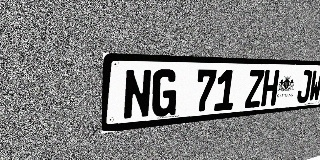1: (214, 70, 236, 111)
7: (193, 69, 217, 113)
G: (151, 69, 178, 118)
H: (261, 70, 280, 107)
J: (296, 70, 313, 103)
N: (123, 69, 152, 120)
W: (308, 70, 320, 102)
Z: (244, 70, 265, 108)
